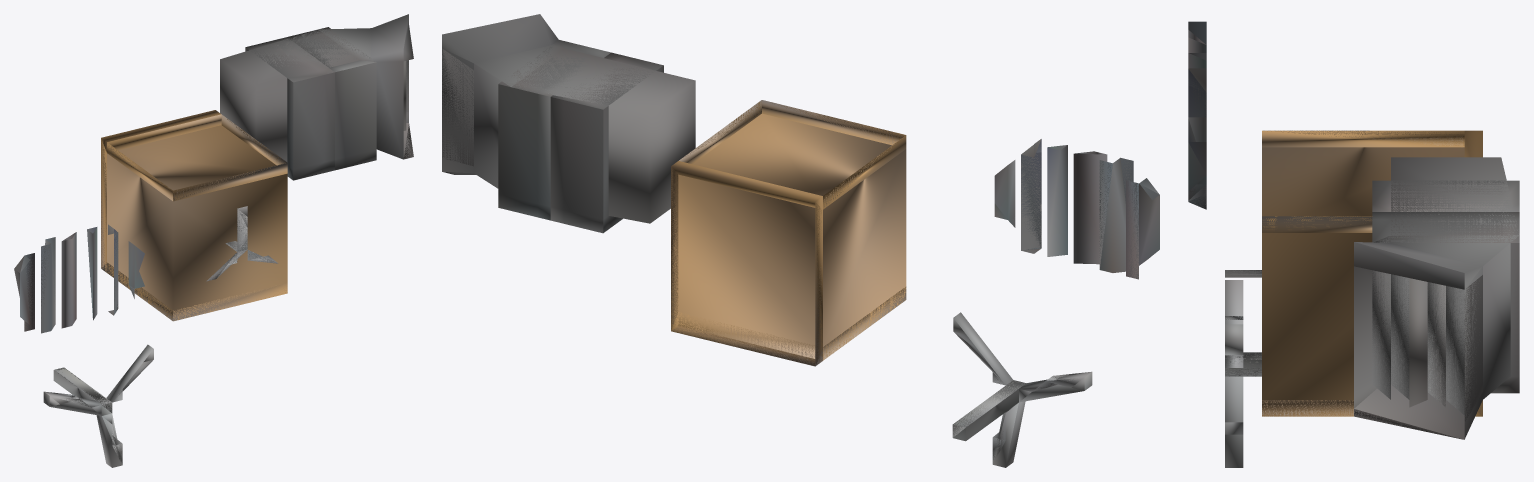
Rendered from electric-furnace.1.glb.
The picture shows the model from 3 angles, left to right: view 1: azimuth 30°, elevation 25°; view 2: azimuth 150°, elevation 25°; view 3: azimuth 270°, elevation 25°; orthographic projection. The views are drawn at different scales.
Visible parts, largest first — view 1: modelo; view 2: modelo; view 3: modelo.
Part boxes in pixels (x1,y1,x2,y2): modelo: (14,14,413,467); modelo: (442,14,1159,467); modelo: (1188,21,1519,467).
Size of the model in its own units: 0.046 by 0.028 by 0.018.
